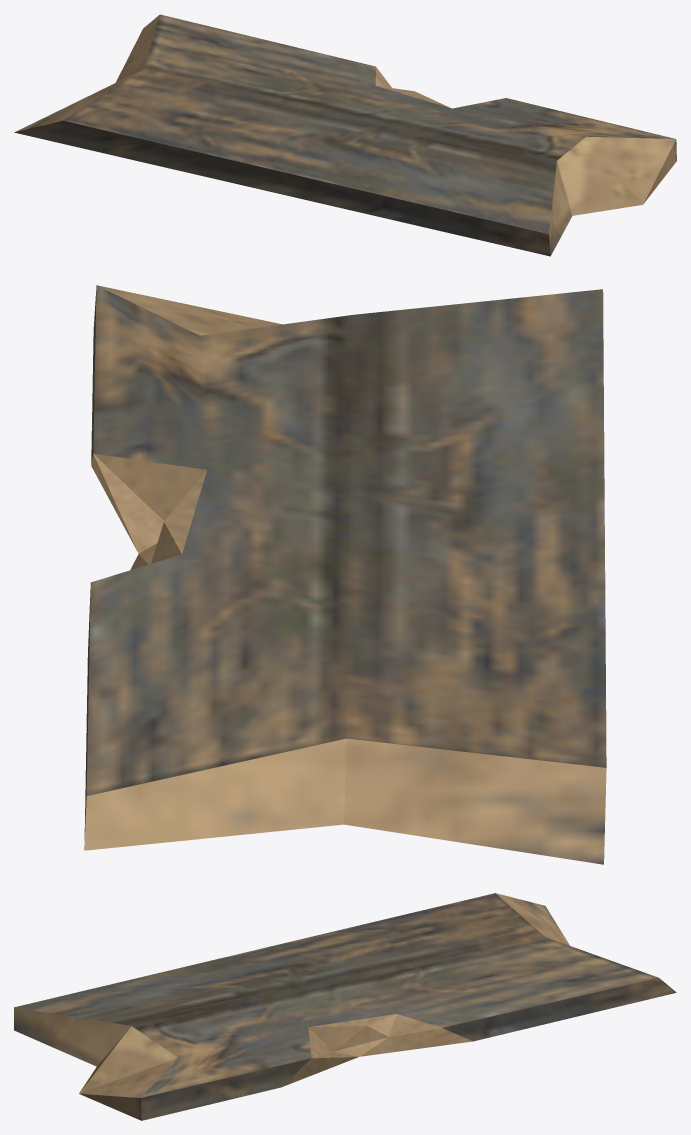
Rendered from 4008_Item_pomuban_4.FBX.
3 renders of one model, top to bottom at view 1: azimuth 30°, elevation 25°; view 2: azimuth 150°, elevation 25°; view 3: azimuth 270°, elevation 25°, orthographic. The views are drawn at different scales.
Parts seen in each view (by area): view 1: 4008_Item_pomuban_4; view 2: 4008_Item_pomuban_4; view 3: 4008_Item_pomuban_4.
Part boxes in pixels (x1=…): 4008_Item_pomuban_4: x1=14, y1=14, x2=676, y2=256; 4008_Item_pomuban_4: x1=84, y1=285, x2=606, y2=864; 4008_Item_pomuban_4: x1=14, y1=893, x2=676, y2=1120.
Bounding box in the file's own units: 490 × 43.28 × 615.
